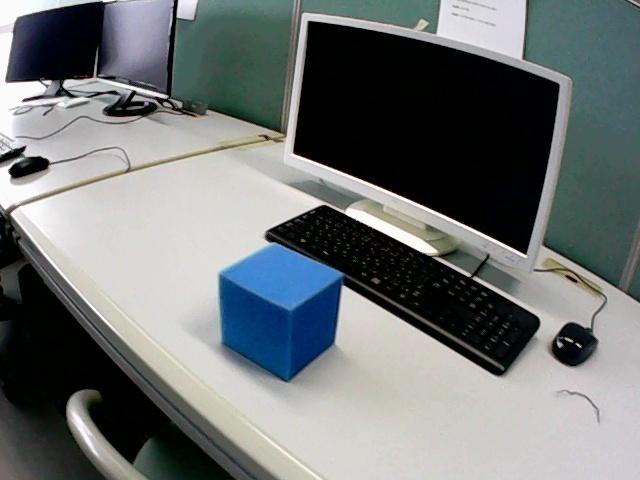blue_block: (219, 244, 342, 379)
